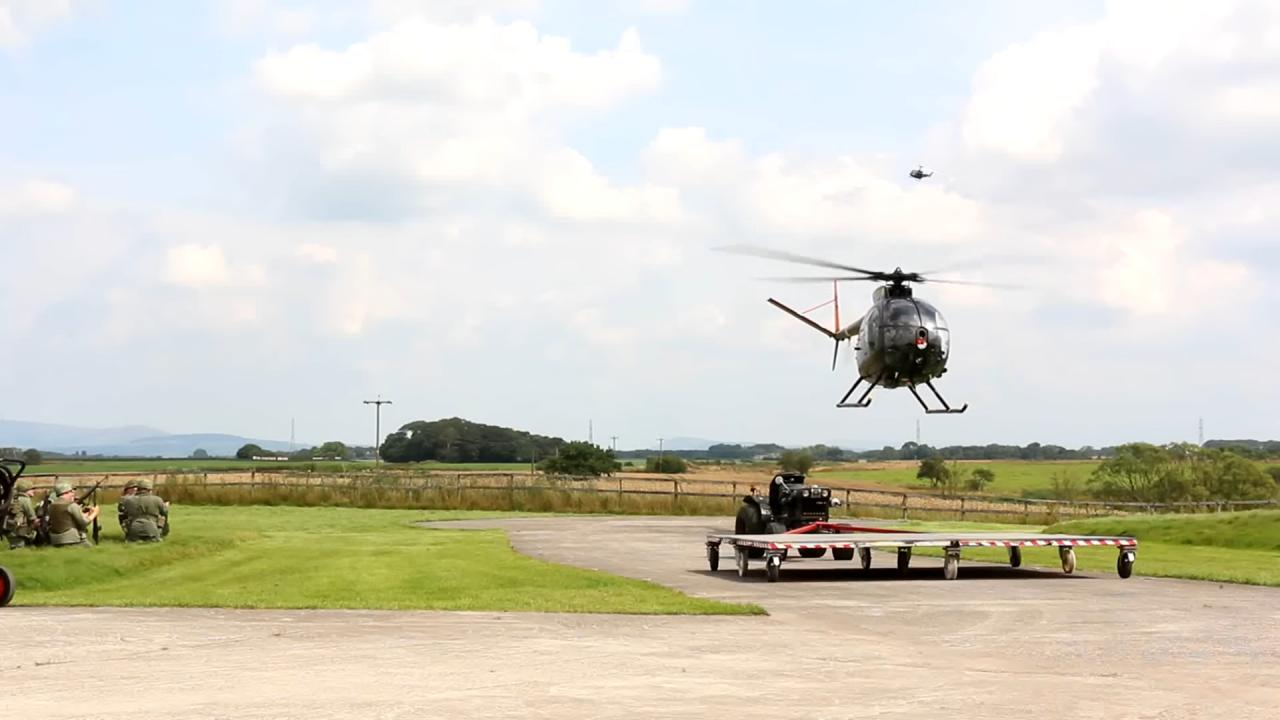Helicopter: (694, 221, 1083, 422)
